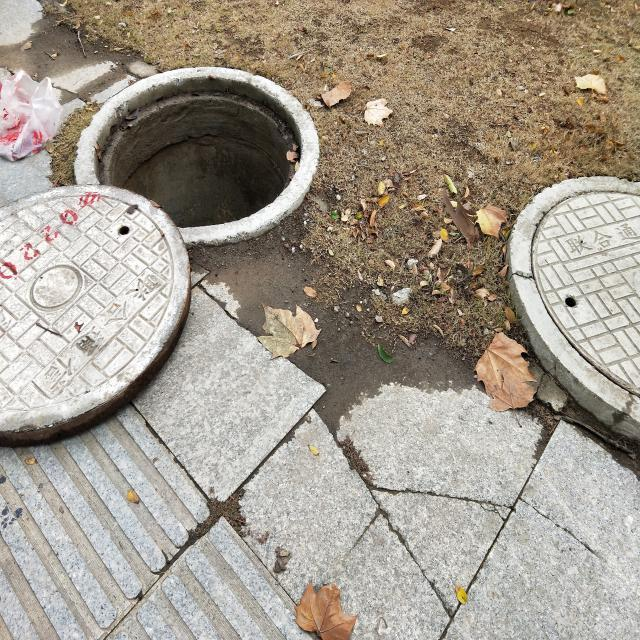Faulty: (0, 64, 317, 447)
Good: (509, 175, 640, 444)
